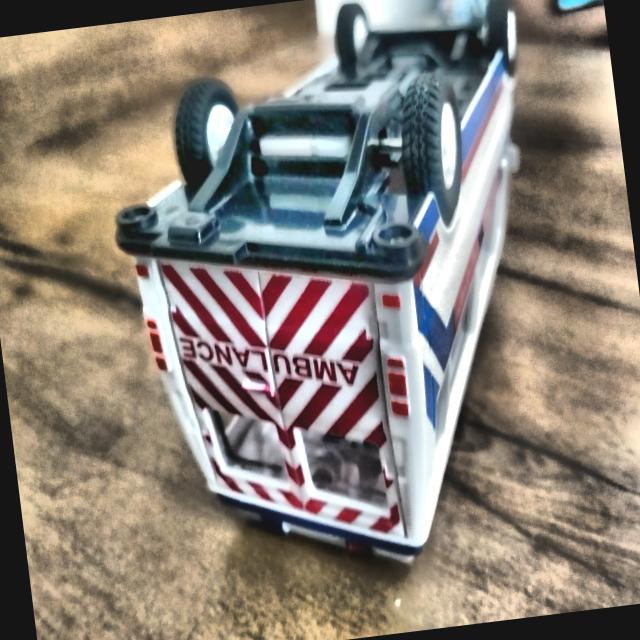Ambulance: (66, 0, 621, 607)
